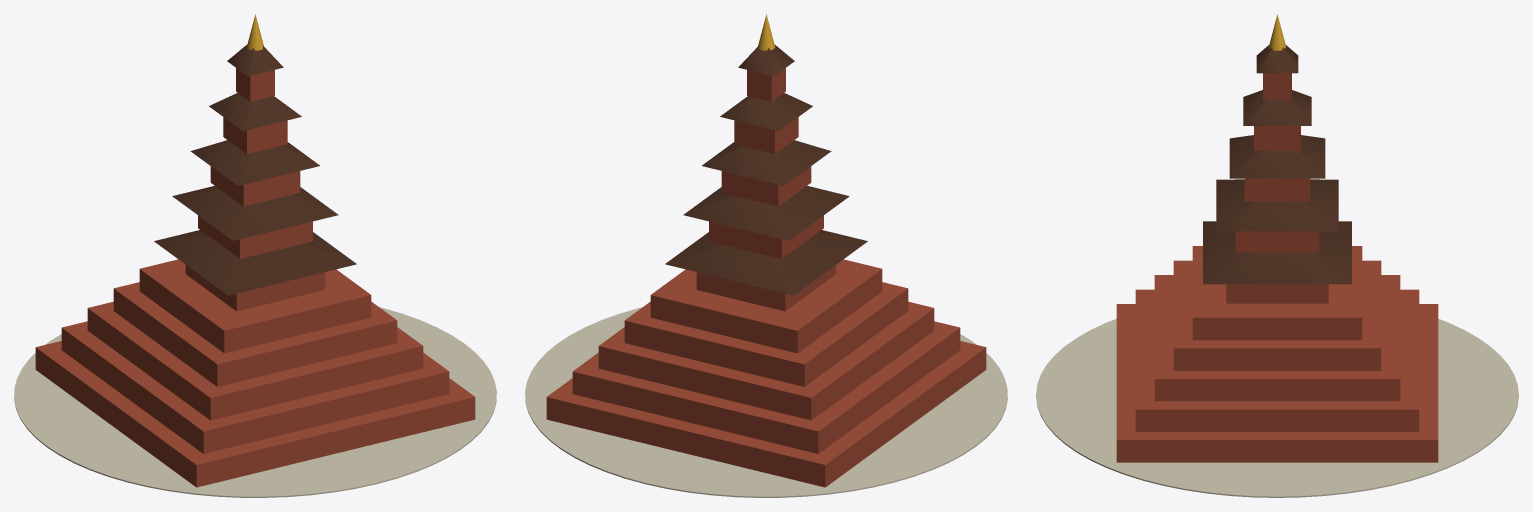
File: nyatapola.gltf
The picture shows the model from 3 angles, left to right: view 1: azimuth 30°, elevation 25°; view 2: azimuth 150°, elevation 25°; view 3: azimuth 270°, elevation 25°; orthographic projection.
Visible parts, largest first — view 1: ground, object 1, object 2, object 3, object 5, object 4, object 7, object 9, object 11, object 6, object 8, object 13 (+4 smaller); view 2: ground, object 1, object 2, object 3, object 5, object 4, object 7, object 9, object 11, object 6, object 8, object 13 (+4 smaller); view 3: ground, object 1, object 2, object 3, object 4, object 5, object 7, object 9, object 11, object 13, object 6, object 8 (+4 smaller).
Boxes of the visible parts, x1,y1,x2,y2 form: ground: [14, 307, 496, 497]; object 1: [35, 341, 475, 487]; object 2: [61, 321, 449, 453]; object 3: [87, 301, 423, 420]; object 5: [139, 259, 371, 353]; object 4: [113, 282, 397, 386]; object 7: [154, 230, 356, 295]; object 9: [172, 186, 338, 240]; object 11: [190, 140, 319, 185]; object 6: [185, 265, 325, 311]; object 8: [198, 215, 312, 258]; object 13: [209, 93, 301, 130]; ground: [525, 307, 1007, 497]; object 1: [546, 341, 986, 487]; object 2: [572, 321, 960, 453]; object 3: [598, 301, 934, 420]; object 5: [650, 259, 882, 353]; object 4: [624, 282, 908, 386]; object 7: [665, 230, 867, 295]; object 9: [683, 186, 849, 240]; object 11: [702, 140, 831, 185]; object 6: [696, 265, 836, 311]; object 8: [709, 215, 823, 258]; object 13: [720, 93, 812, 130]; ground: [1036, 319, 1518, 497]; object 1: [1116, 304, 1438, 462]; object 2: [1135, 289, 1419, 431]; object 3: [1154, 275, 1400, 401]; object 4: [1173, 260, 1381, 370]; object 5: [1192, 246, 1362, 340]; object 7: [1203, 221, 1351, 284]; object 9: [1216, 179, 1338, 231]; object 11: [1229, 135, 1325, 178]; object 13: [1243, 90, 1311, 125]; object 6: [1226, 284, 1328, 303]; object 8: [1235, 231, 1319, 252].
Bounding box in the file's own units: 33 × 28.8 × 33.
